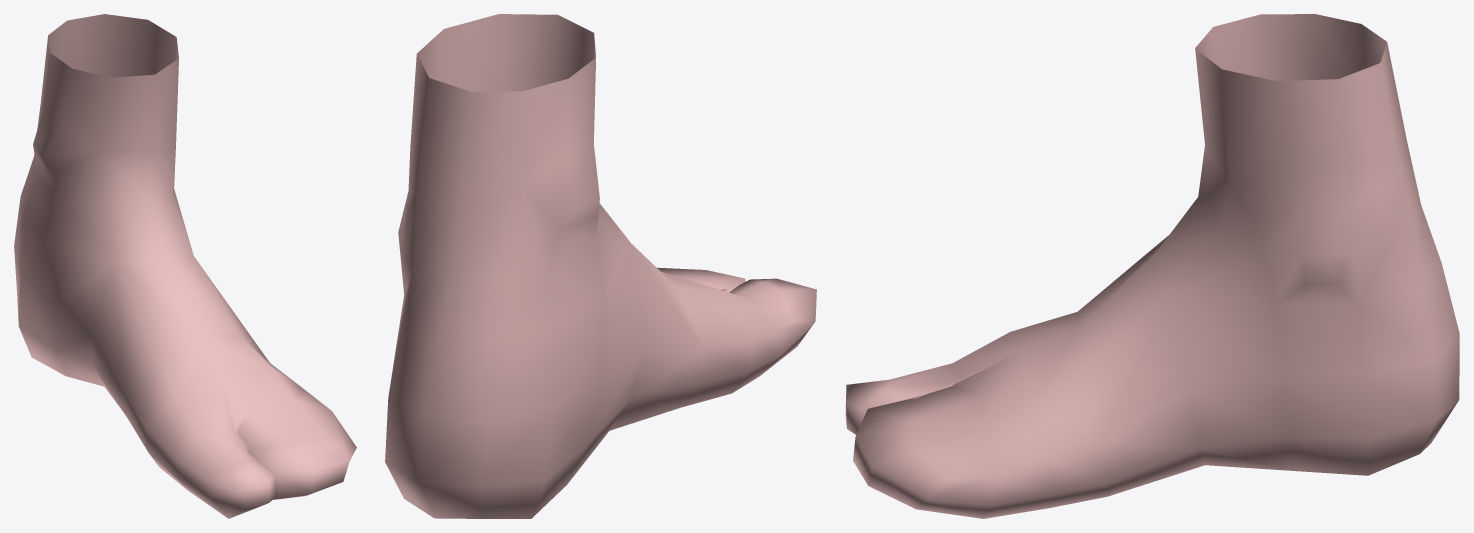
Rendered from Anime_Male_A_Foot03.fbx.
3 renders of one model, left to right at view 1: azimuth 30°, elevation 25°; view 2: azimuth 150°, elevation 25°; view 3: azimuth 270°, elevation 25°, orthographic. The views are drawn at different scales.
Parts seen in each view (by area): view 1: Anime_Male_A_Foot03; view 2: Anime_Male_A_Foot03; view 3: Anime_Male_A_Foot03.
Part boxes in pixels (x1=…): Anime_Male_A_Foot03: x1=14, y1=14, x2=356, y2=518; Anime_Male_A_Foot03: x1=385, y1=14, x2=816, y2=518; Anime_Male_A_Foot03: x1=845, y1=14, x2=1459, y2=518.
Size of the model in its own units: 0.609 by 1.12 by 1.47.
